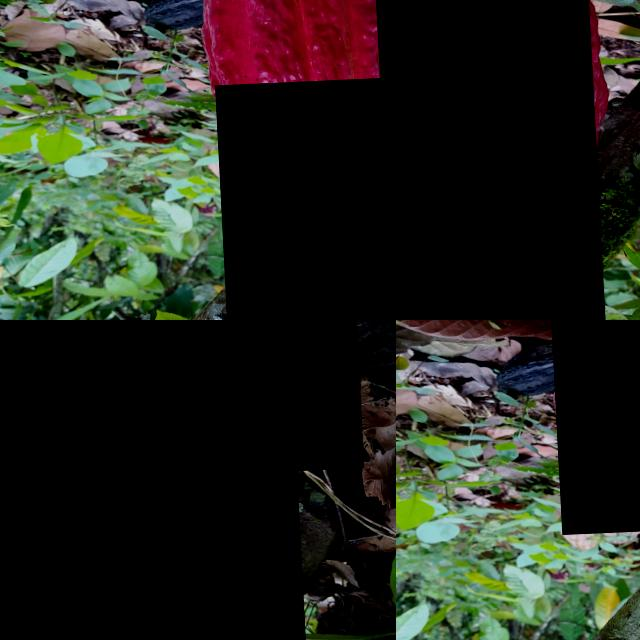Fitoftora: (212, 81, 396, 320)
Sana: (0, 320, 304, 640), (396, 0, 600, 320), (546, 320, 640, 537), (270, 320, 361, 476)
